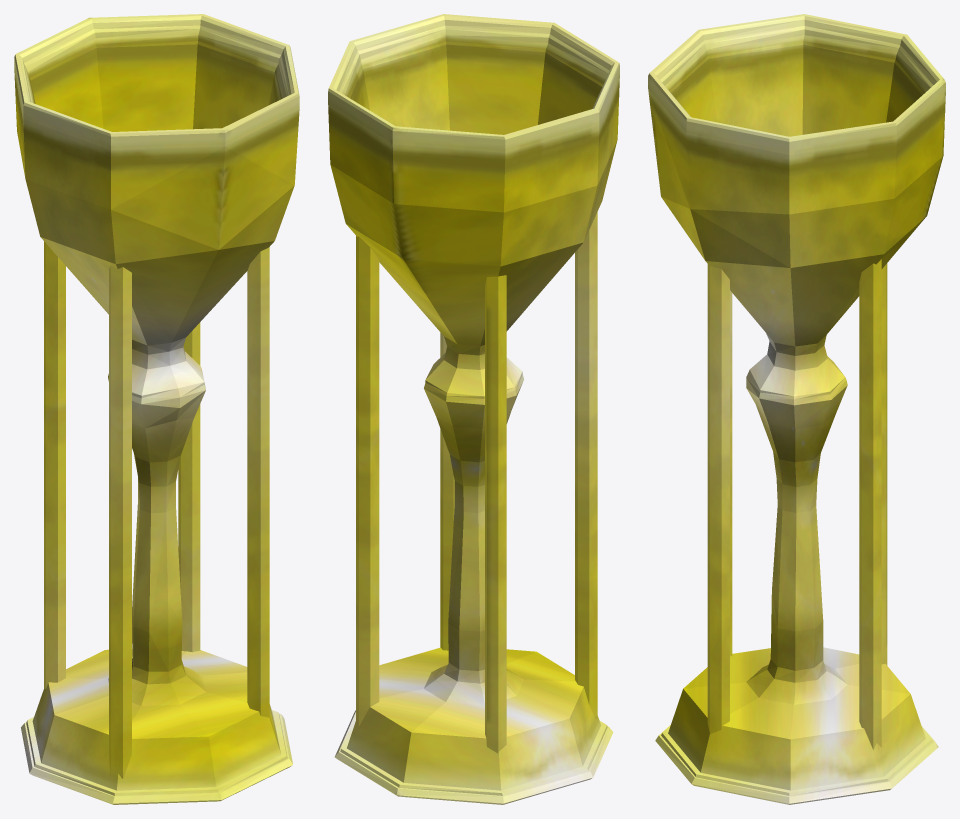
File: Trophy.glb
3 renders of one model, left to right at view 1: azimuth 30°, elevation 25°; view 2: azimuth 150°, elevation 25°; view 3: azimuth 270°, elevation 25°, orthographic.
Visible parts, largest first — view 1: Trophy; view 2: Trophy; view 3: Trophy.
Part boxes in pixels (<box>): Trophy: <box>14,14,299,804</box>; Trophy: <box>328,14,619,804</box>; Trophy: <box>648,14,945,804</box>.
Bounding box in the file's own units: 102 × 253 × 102.
Materials: 1 (1 with a texture image).
